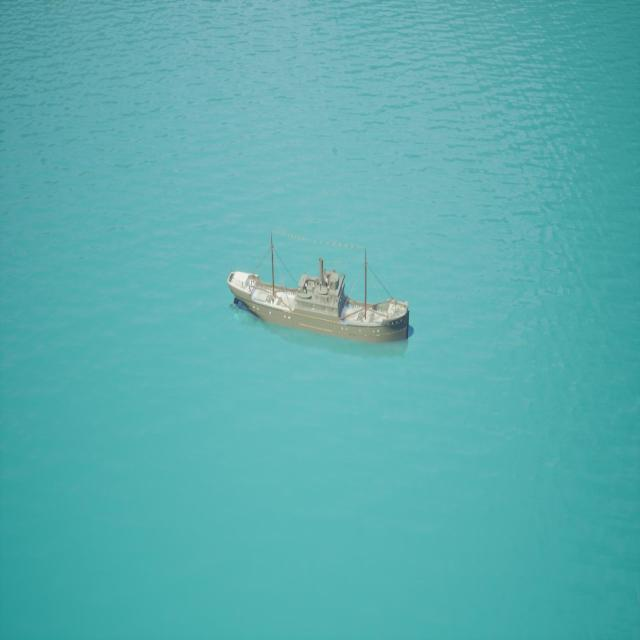fishing ship: (228, 235, 412, 350)
